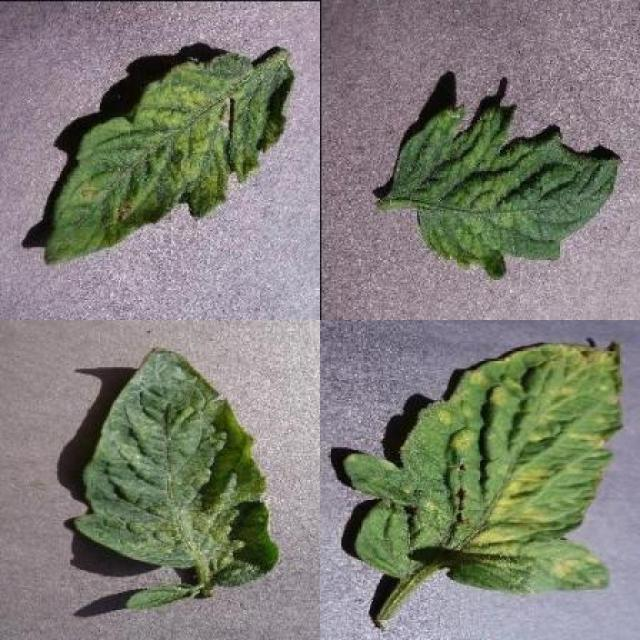Leaf Mold: (346, 341, 625, 596)
Mosaic Virus: (44, 50, 299, 267), (387, 106, 623, 280)
Spider Mites: (75, 347, 278, 587)
